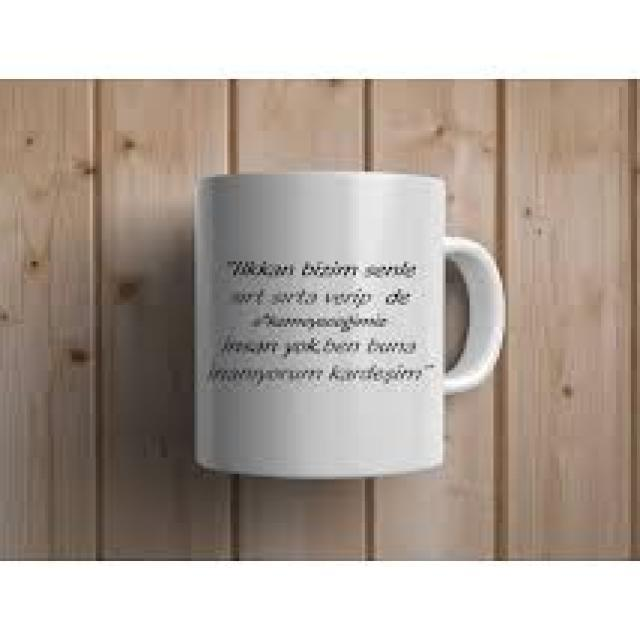taza: (192, 169, 508, 482)
